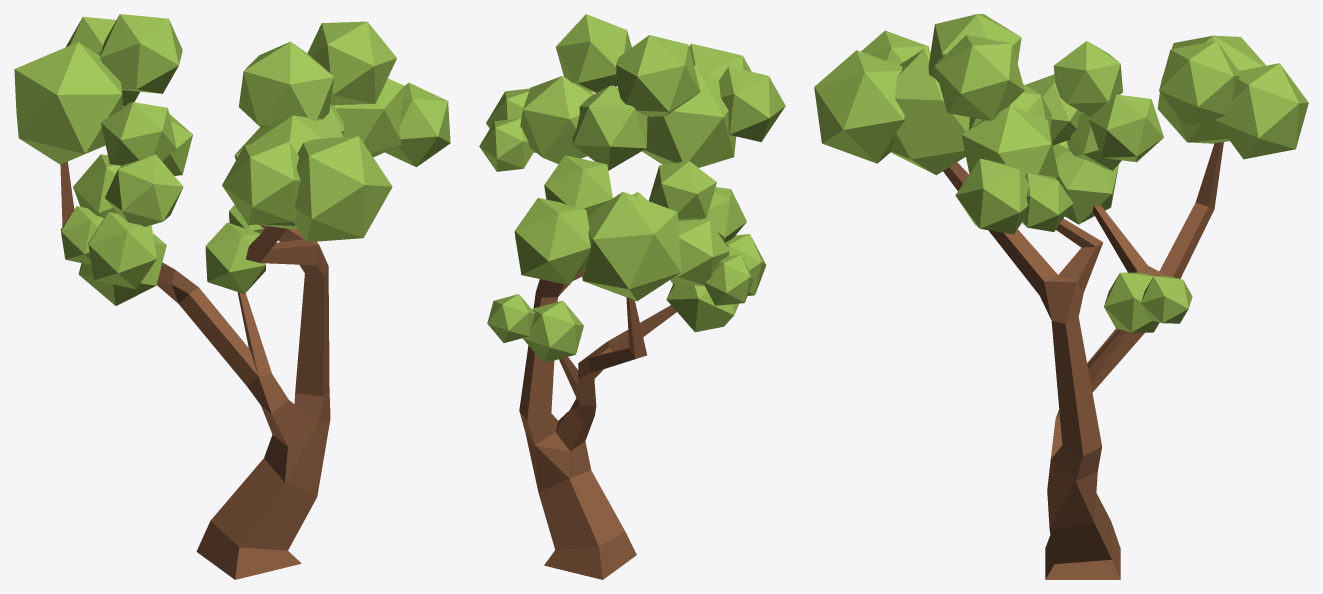
Rendered from Oak5.fbx.
3 renders of one model, left to right at view 1: azimuth 30°, elevation 25°; view 2: azimuth 150°, elevation 25°; view 3: azimuth 270°, elevation 25°, orthographic. The views are drawn at different scales.
Visible parts, largest first — view 1: MyObject.010; view 2: MyObject.010; view 3: MyObject.010.
Part boxes in pixels (bbox=[...]): MyObject.010: bbox=[14, 14, 450, 579]; MyObject.010: bbox=[479, 14, 785, 579]; MyObject.010: bbox=[814, 14, 1308, 579].
Size of the model in its own units: 484 by 775 by 634.
1 material, 1 textured.
